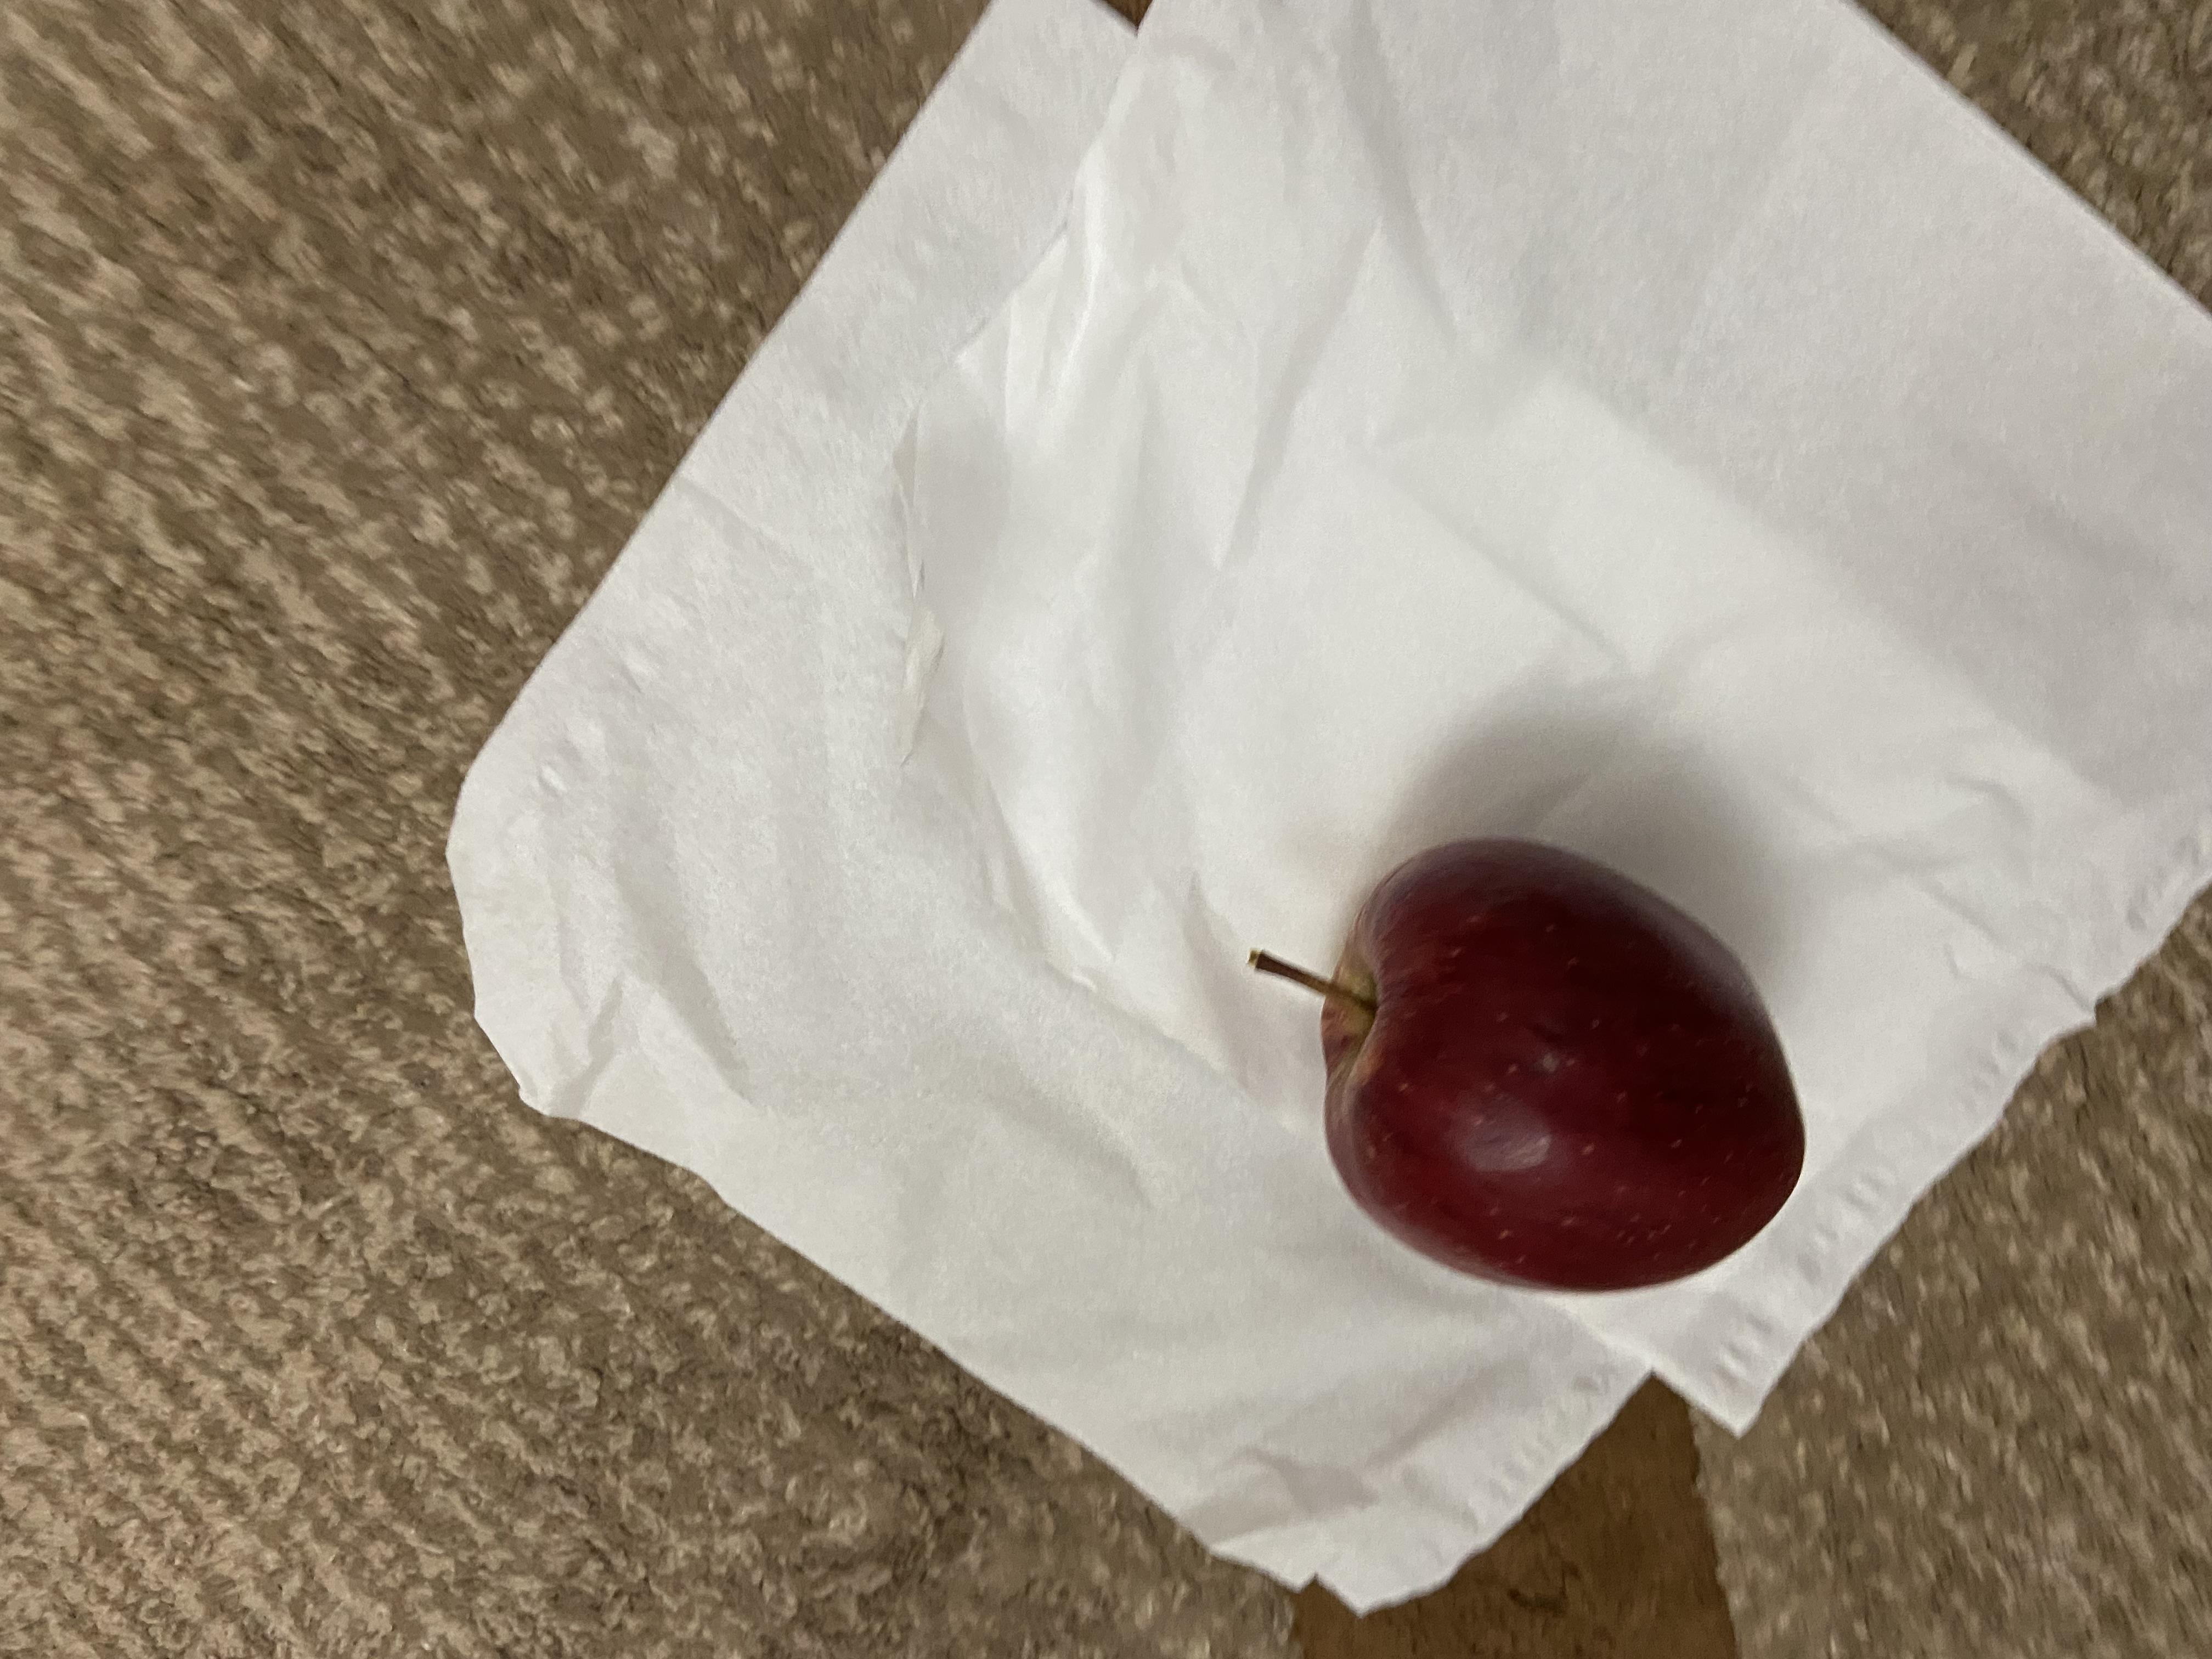Apple: (493, 931, 1092, 1358)
